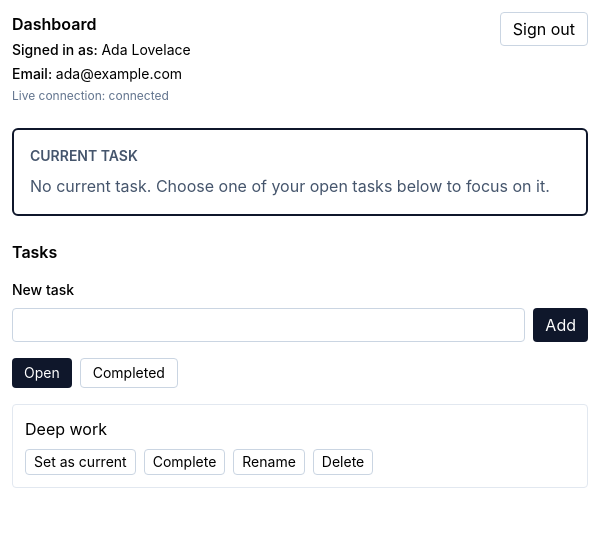
Scenario: dashboard tasks › sets a task as current and shows it prominently
This screenshot has width=605, height=551.
Click the button "Set as current" at (80, 462), box [25, 449, 136, 475]
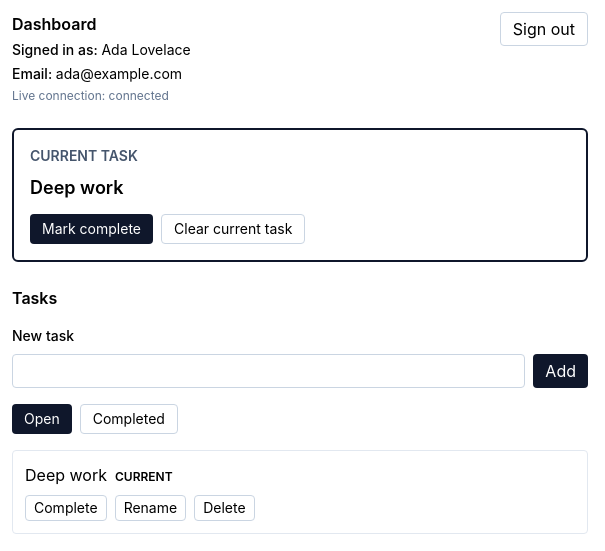
Check: the text "Current" is shown, box [115, 469, 173, 484]
Check: the text "Deep work" is shown, box [30, 177, 124, 198]
